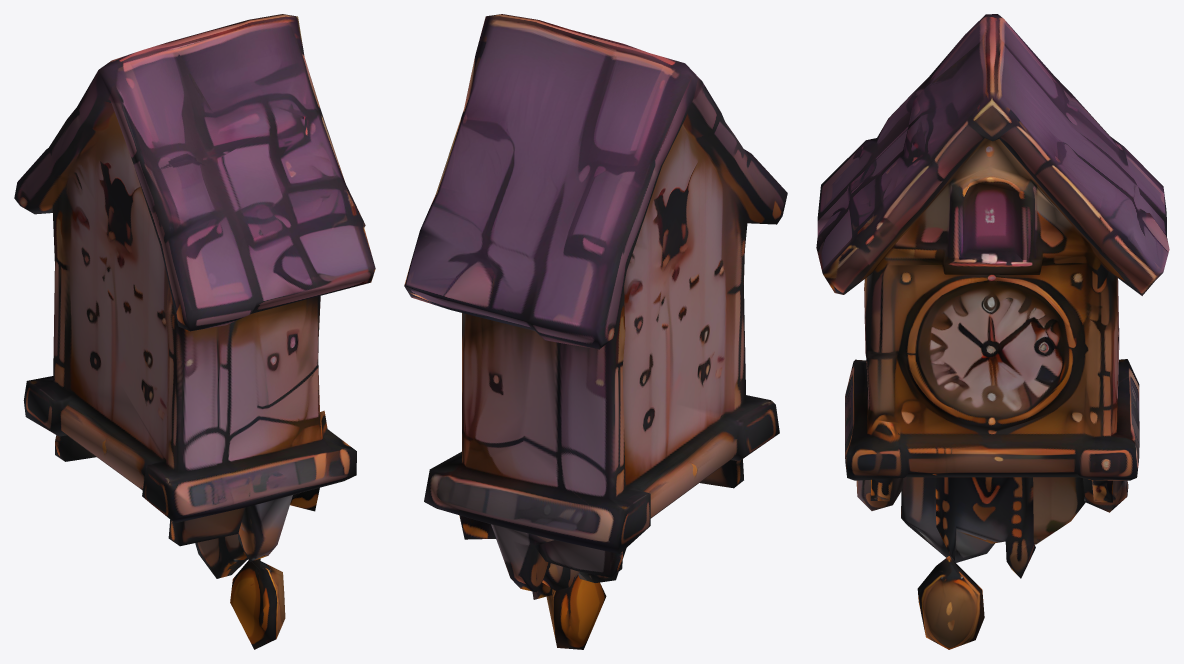
The model's file is wooden+cuckoo+clock+3d+model.obj.
The picture shows the model from 3 angles, left to right: view 1: azimuth 30°, elevation 25°; view 2: azimuth 150°, elevation 25°; view 3: azimuth 270°, elevation 25°; orthographic projection. The views are drawn at different scales.
Parts seen in each view (by area): view 1: tripo_node_f4a7672a-cc15-43c1-b637-b3cbe9b235d7; view 2: tripo_node_f4a7672a-cc15-43c1-b637-b3cbe9b235d7; view 3: tripo_node_f4a7672a-cc15-43c1-b637-b3cbe9b235d7.
Boxes of the visible parts, left/top/right/bottom form: tripo_node_f4a7672a-cc15-43c1-b637-b3cbe9b235d7: left=14, top=14, right=375, bottom=649; tripo_node_f4a7672a-cc15-43c1-b637-b3cbe9b235d7: left=404, top=14, right=787, bottom=649; tripo_node_f4a7672a-cc15-43c1-b637-b3cbe9b235d7: left=816, top=14, right=1169, bottom=649.
Size of the model in its own units: 0.3527 by 0.999 by 0.546.
1 material, 1 textured.
